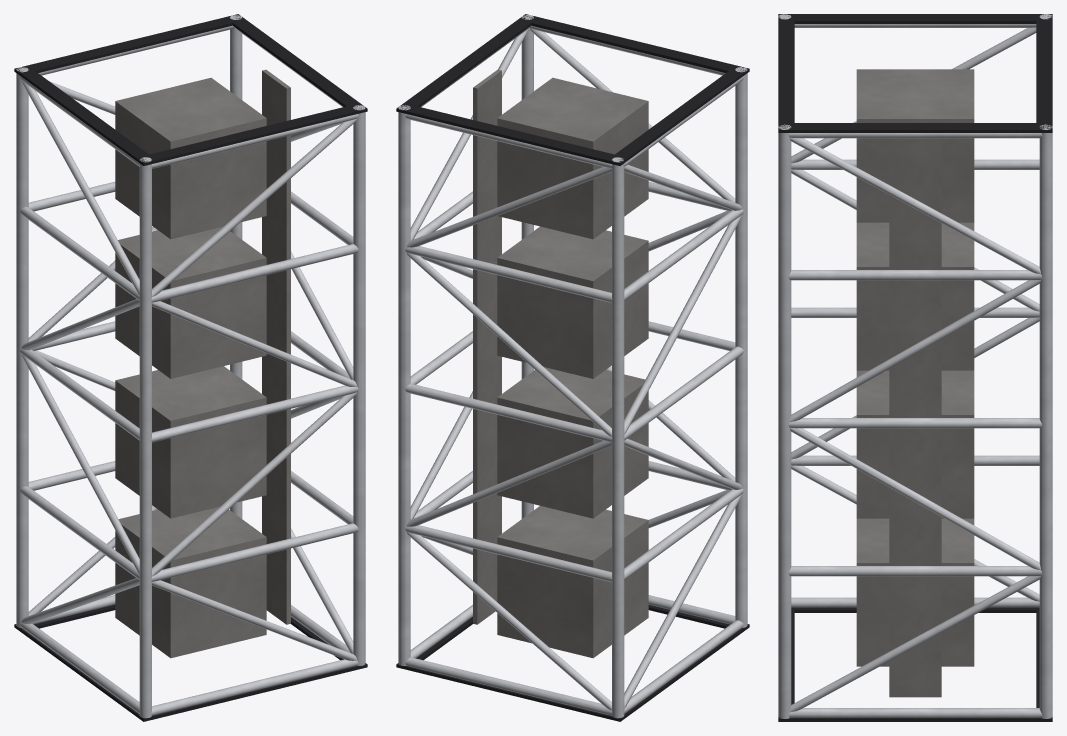
Rendered from station07_truss_xl.glb.
3 views of the same model, side by side, from view 1: azimuth 30°, elevation 25°; view 2: azimuth 150°, elevation 25°; view 3: azimuth 270°, elevation 25° (orthographic). The views are drawn at different scales.
Parts seen in each view (by area): view 1: truss_members, service_bays, utility_tray, end_frames; view 2: truss_members, service_bays, utility_tray, end_frames; view 3: truss_members, service_bays, utility_tray, end_frames.
Boxes of the visible parts, bbox=[...] form: truss_members: bbox=[16, 15, 365, 718]; service_bays: bbox=[115, 77, 266, 658]; utility_tray: bbox=[262, 69, 290, 624]; end_frames: bbox=[14, 14, 367, 721]; truss_members: bbox=[398, 15, 747, 718]; service_bays: bbox=[497, 77, 648, 658]; utility_tray: bbox=[473, 69, 501, 624]; end_frames: bbox=[396, 14, 749, 721]; truss_members: bbox=[778, 14, 1052, 718]; service_bays: bbox=[856, 69, 974, 666]; utility_tray: bbox=[889, 138, 941, 697]; end_frames: bbox=[778, 14, 1052, 721].
Bounding box in the file's own units: 4.2 × 10 × 4.2.
Materials: 3 (2 with a texture image).
